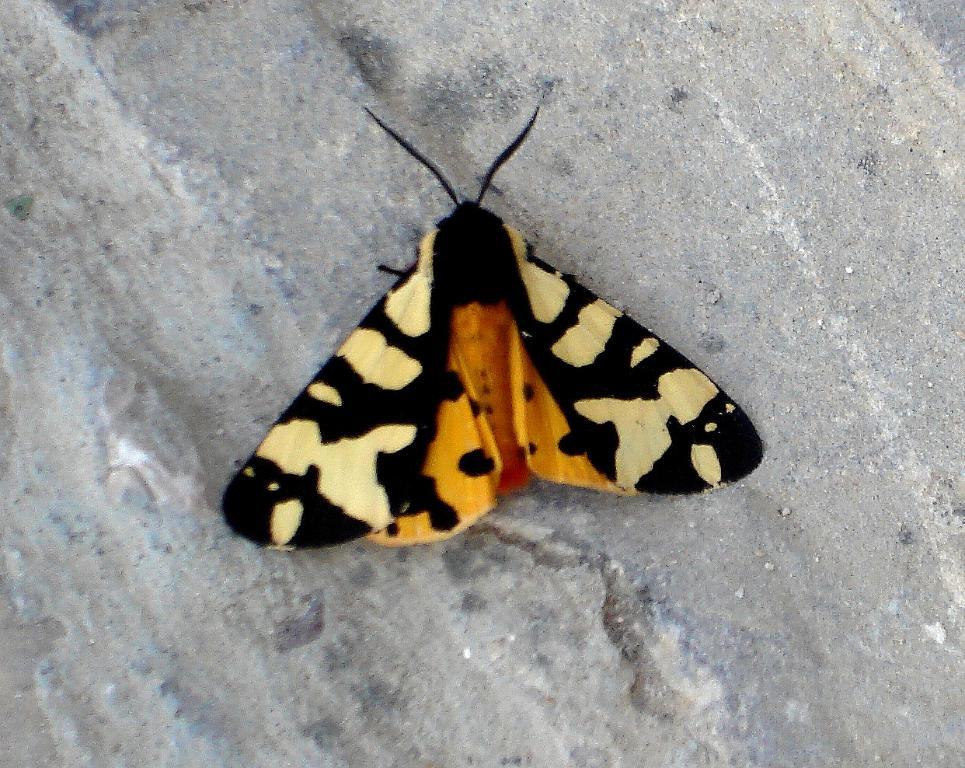Butterfly: (199, 137, 800, 569)
